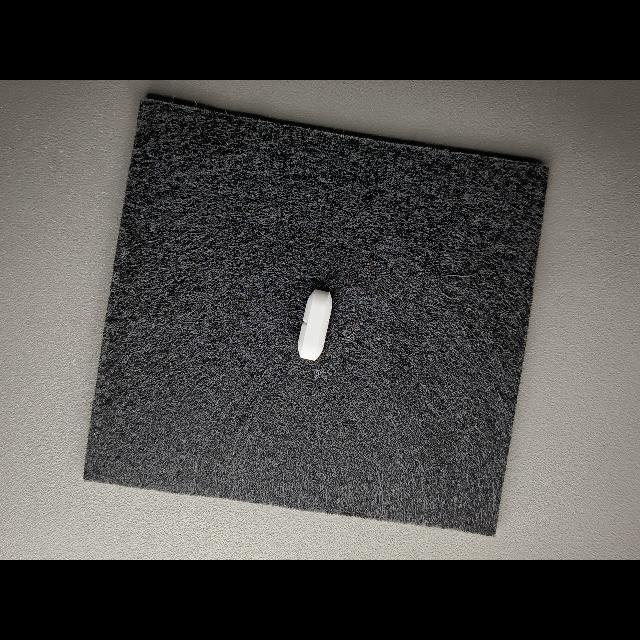Intact Pill: (298, 290, 332, 361)
